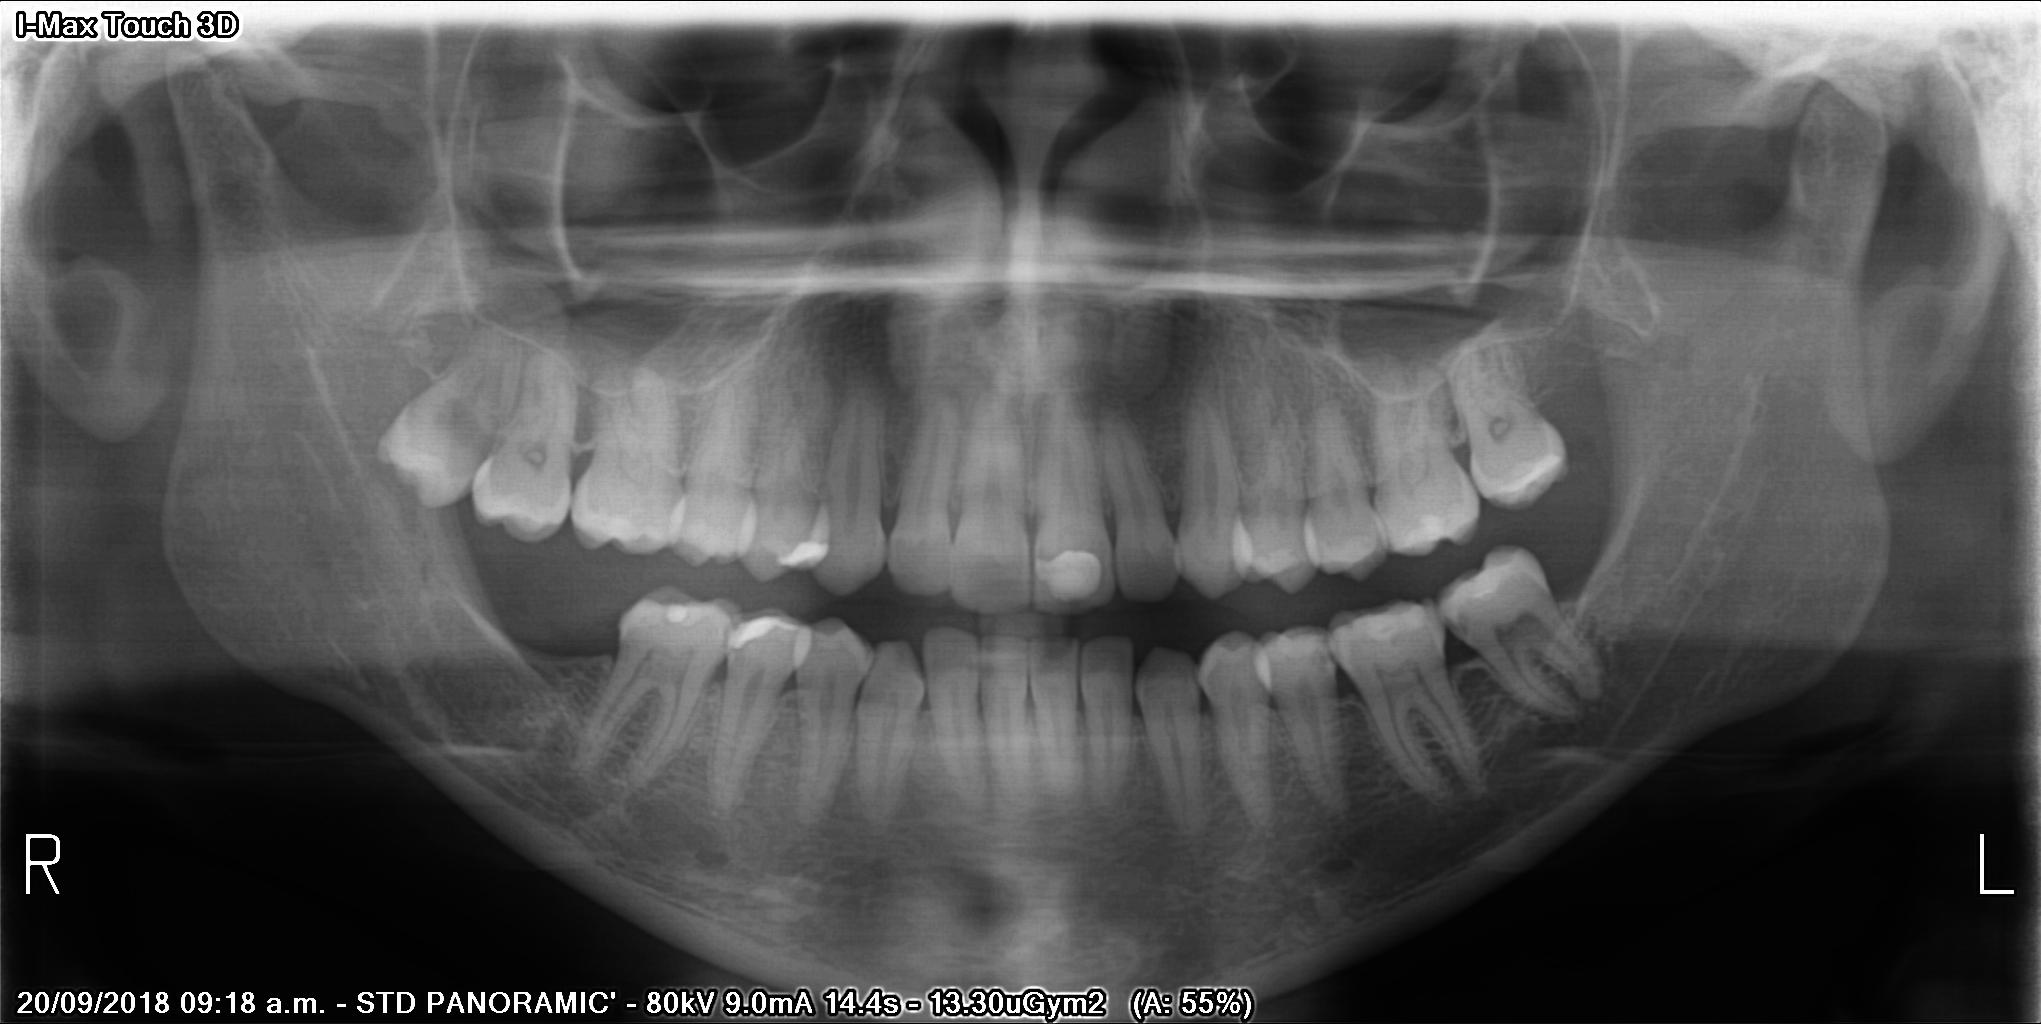Çürük: (770, 522, 845, 585), (1036, 550, 1102, 597), (725, 607, 783, 660), (661, 594, 713, 631), (1444, 602, 1472, 644)
